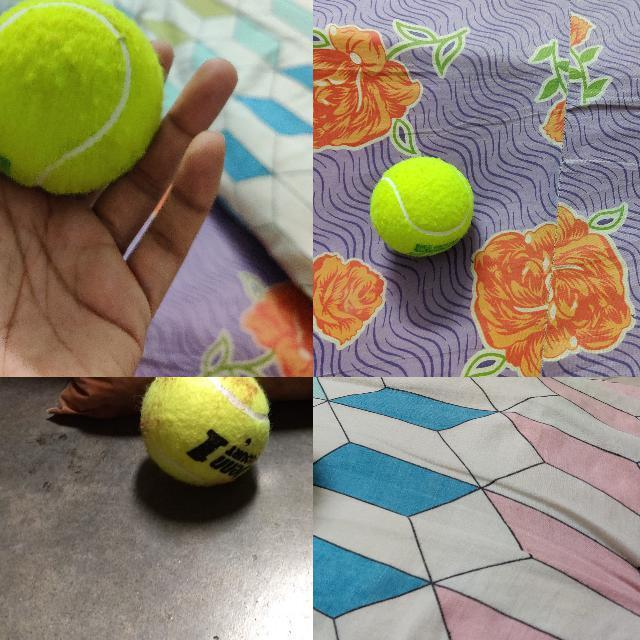tennis-ball: (0, 0, 166, 196), (138, 377, 271, 486), (369, 155, 473, 258)
